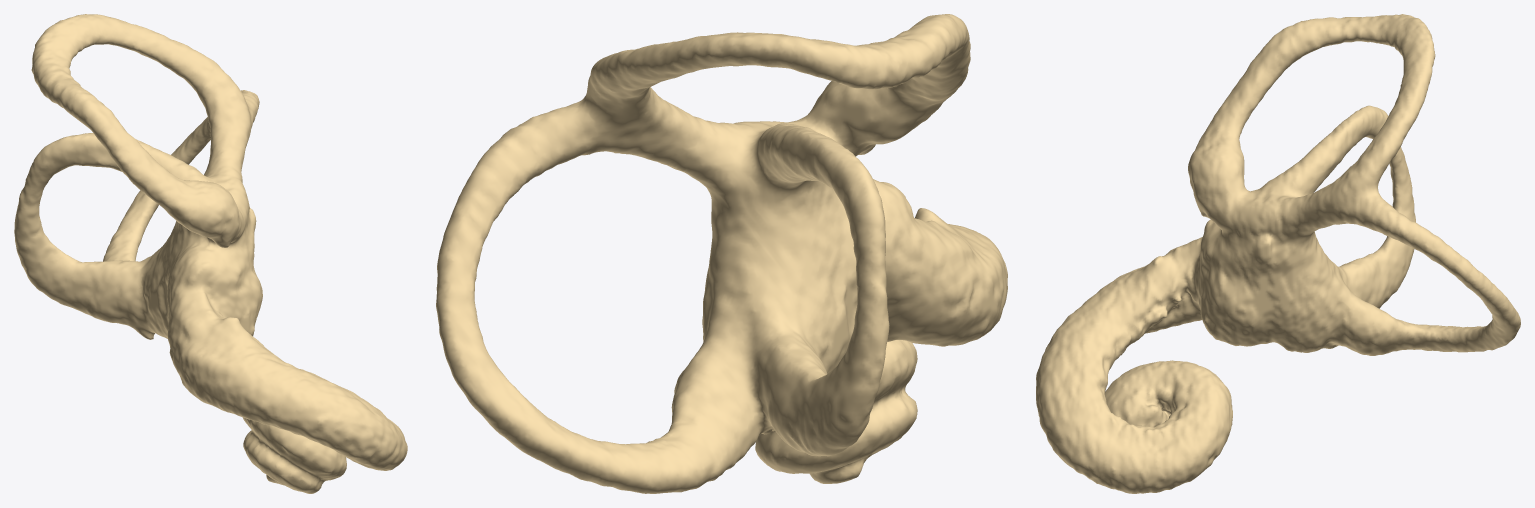
The model's file is labyrinth.glb.
3 renders of one model, left to right at view 1: azimuth 30°, elevation 25°; view 2: azimuth 150°, elevation 25°; view 3: azimuth 270°, elevation 25°, orthographic. The views are drawn at different scales.
Parts seen in each view (by area): view 1: F01 bony labyrinth; view 2: F01 bony labyrinth; view 3: F01 bony labyrinth.
Boxes of the visible parts, box(x1,y1,x2,y2) form: F01 bony labyrinth: box(14, 14, 407, 493); F01 bony labyrinth: box(436, 14, 1007, 493); F01 bony labyrinth: box(1036, 14, 1520, 493).
Size of the model in its own units: 9.71 by 14.93 by 16.26.
